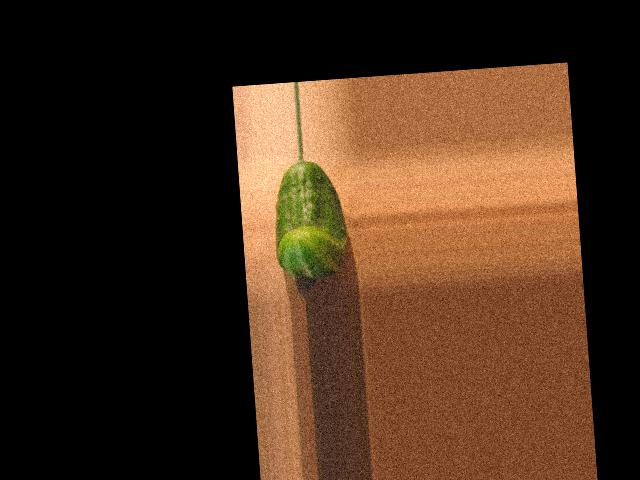cucumber: (269, 158, 349, 280)
